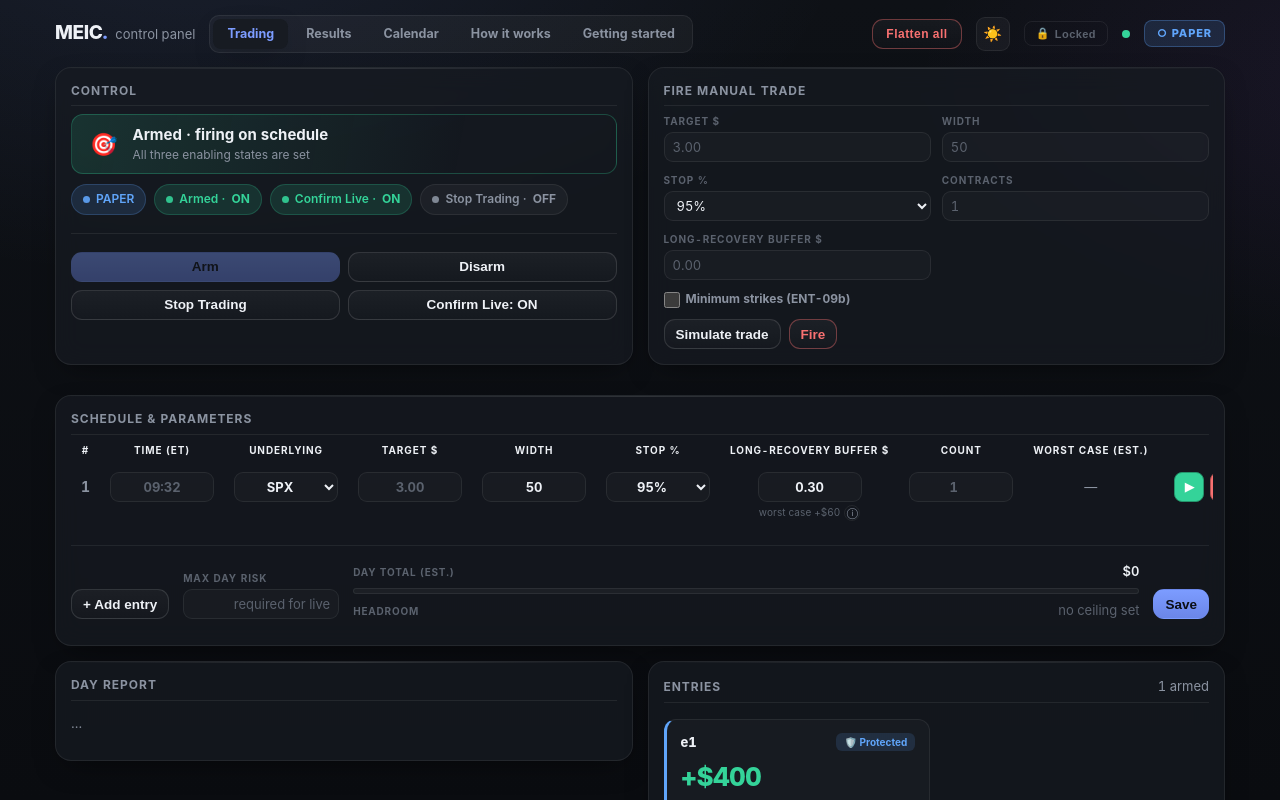
Test: App — Close / Flatten (UI-16 / TC-FLT-01) › Flatten all shows an ERROR toast when the backend reports flatten_failed
Click the button "Flatten all" at point(917, 34), box 872,19 -> 962,49
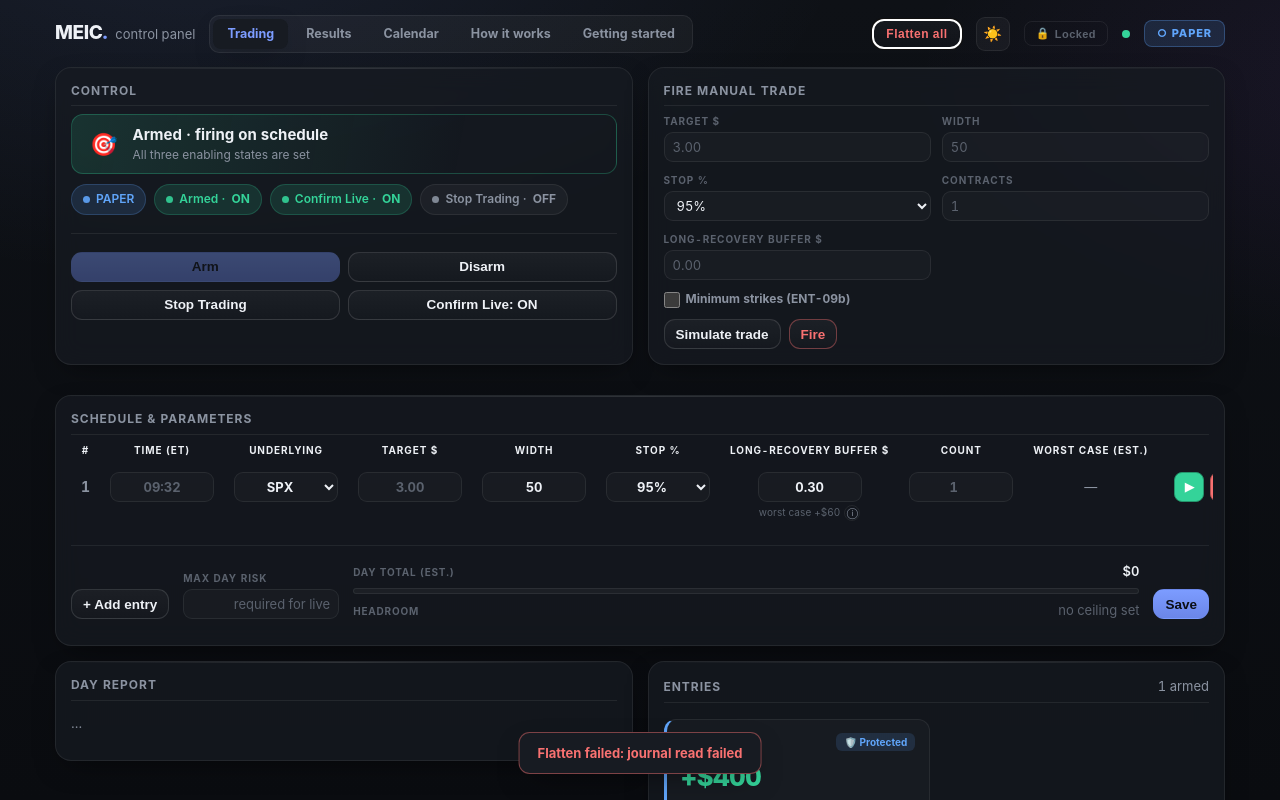
Now the text "Flatten failed: journal read failed" is shown, box 519,732 -> 762,774
